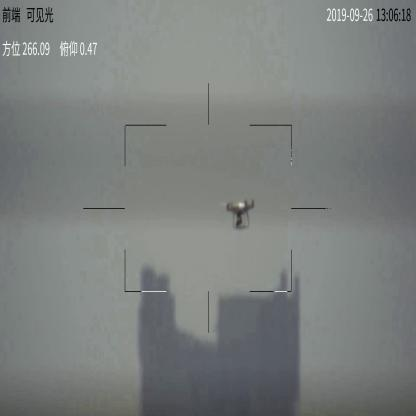uav: (220, 198, 260, 230)
